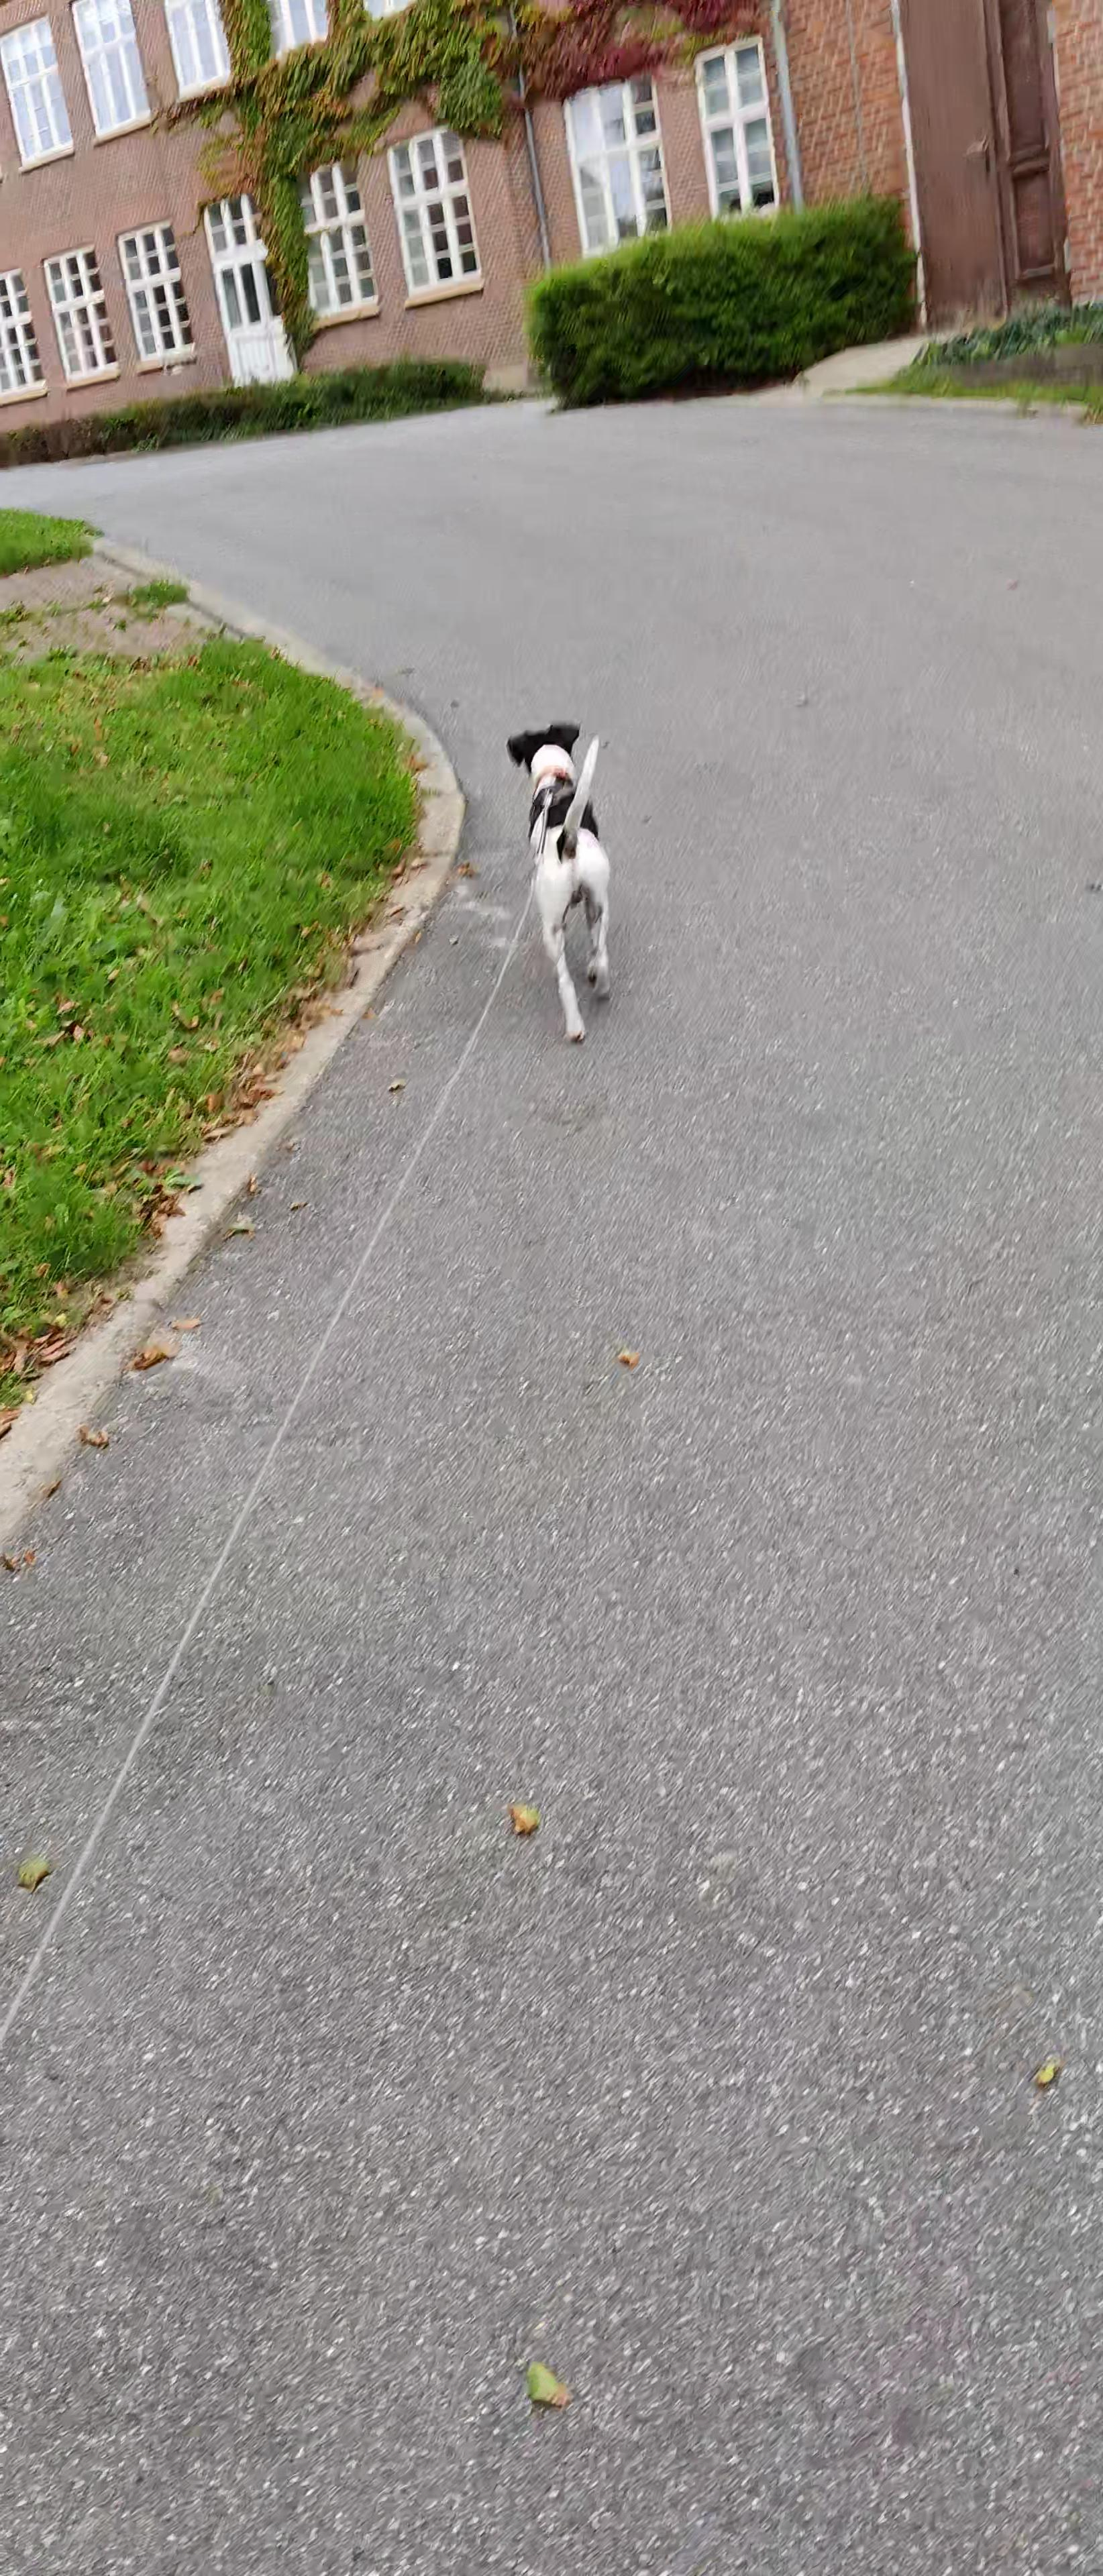Dog: (503, 716, 621, 1051)
